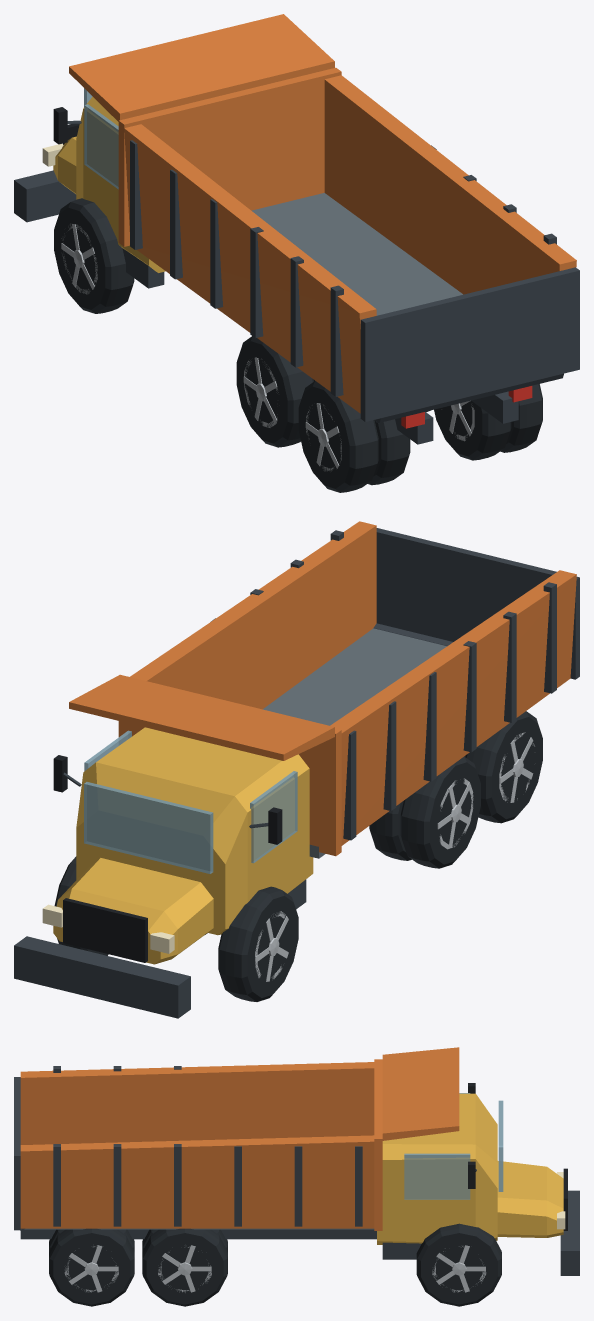
The model's file is LAND_08.obj.
3 renders of one model, top to bottom at view 1: azimuth 30°, elevation 25°; view 2: azimuth 150°, elevation 25°; view 3: azimuth 270°, elevation 25°, orthographic. The views are drawn at different scales.
Parts seen in each view (by area): view 1: dump_bed_walls, dump_bed_tailgate, dump_bed_headboard, dump_bed_canopy, dump_bed_floor, wheel_R2_L, dump_bed_ribs, wheel_F_L, wheel_R1_L, wheel_R2_R, cab, windows (+6 smaller); view 2: dump_bed_walls, cab, dump_bed_tailgate, windows, dump_bed_canopy, bumper, hood, dump_bed_floor, wheel_R1_L, dump_bed_ribs, wheel_F_L, wheel_R2_L (+4 smaller); view 3: dump_bed_walls, cab, dump_bed_canopy, wheel_R1_R, wheel_R2_R, wheel_F_R, hood, dump_bed_ribs, windows, frame, dump_bed_headboard, bumper (+3 smaller).
Boxes of the visible parts, <box> form: dump_bed_walls: <box>124,75,576,413</box>; dump_bed_tailgate: <box>360,267,579,421</box>; dump_bed_headboard: <box>118,67,341,246</box>; dump_bed_canopy: <box>69,14,334,121</box>; dump_bed_floor: <box>252,193,462,421</box>; wheel_R2_L: <box>298,380,410,492</box>; dump_bed_ribs: <box>130,140,556,396</box>; wheel_F_L: <box>54,198,134,313</box>; wheel_R1_L: <box>236,336,314,447</box>; wheel_R2_R: <box>434,384,542,460</box>; cab: <box>76,96,165,272</box>; windows: <box>84,88,118,189</box>; dump_bed_walls: <box>120,521,576,854</box>; cab: <box>76,727,313,935</box>; dump_bed_tailgate: <box>376,528,579,679</box>; windows: <box>84,730,297,873</box>; dump_bed_canopy: <box>69,674,334,760</box>; bumper: <box>14,936,190,1018</box>; hood: <box>53,858,213,964</box>; dump_bed_floor: <box>263,628,446,858</box>; wheel_R1_L: <box>369,756,480,868</box>; dump_bed_ribs: <box>211,530,556,840</box>; wheel_F_L: <box>218,886,298,1001</box>; wheel_R2_L: <box>464,711,542,823</box>; dump_bed_walls: <box>20,1062,374,1228</box>; cab: <box>377,1093,497,1244</box>; dump_bed_canopy: <box>382,1047,459,1140</box>; wheel_R1_R: <box>142,1228,227,1306</box>; wheel_R2_R: <box>49,1228,134,1306</box>; wheel_F_R: <box>416,1223,501,1306</box>; hood: <box>497,1161,563,1237</box>; dump_bed_ribs: <box>53,1066,362,1226</box>; windows: <box>404,1093,503,1199</box>; frame: <box>20,1229,376,1239</box>; dump_bed_headboard: <box>374,1059,382,1230</box>; bumper: <box>560,1190,579,1275</box>.
Bounding box in the file's own units: 3.54 × 3.75 × 10.32.
